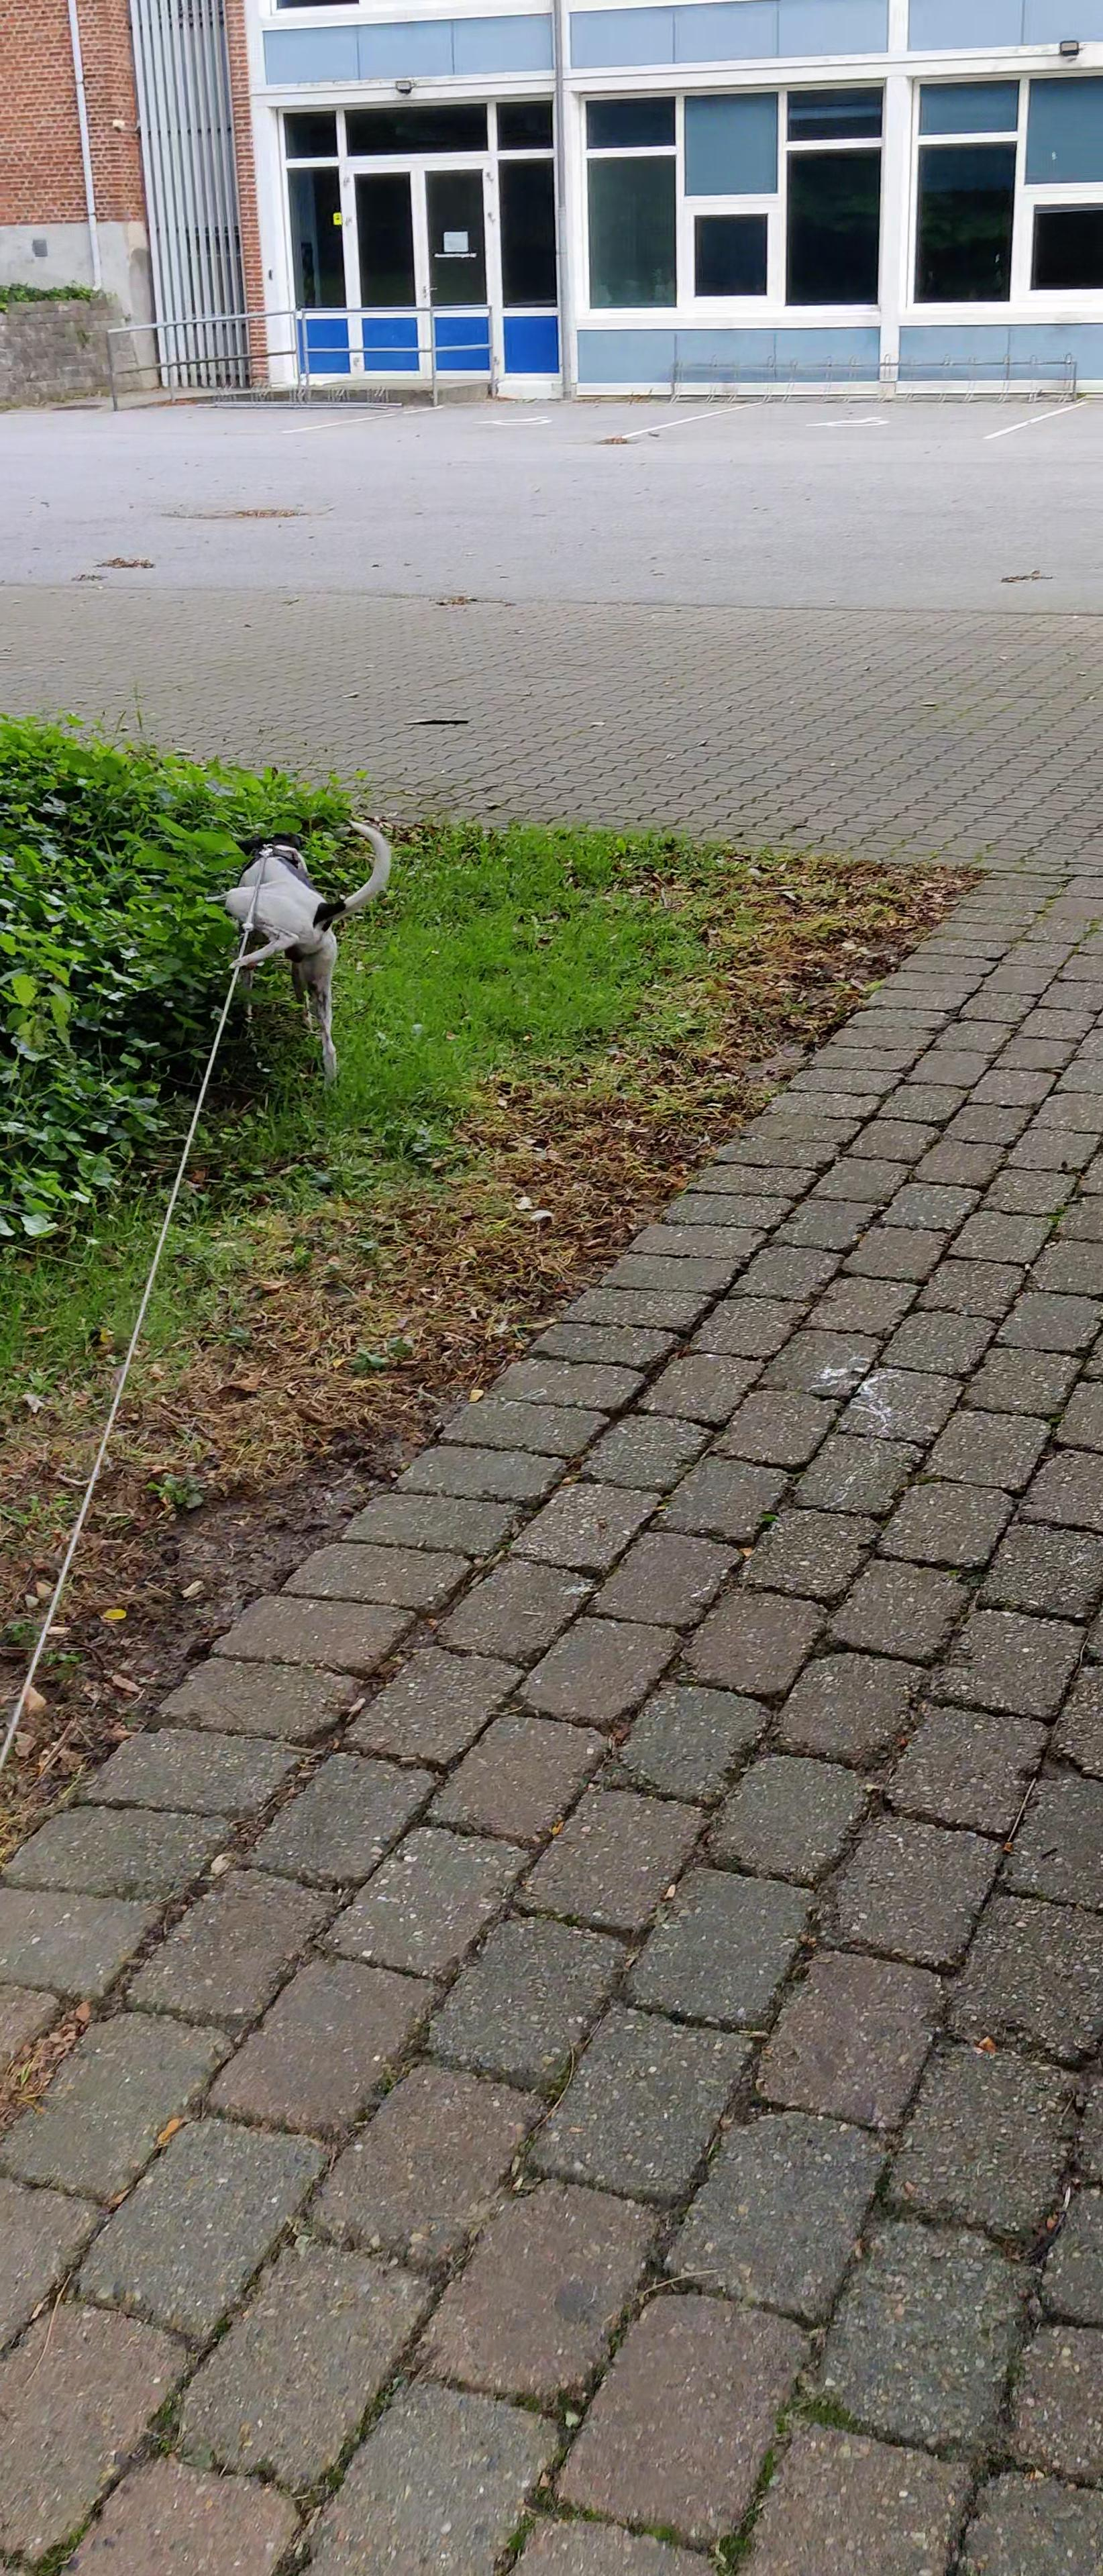Dog: (219, 808, 398, 1083)
